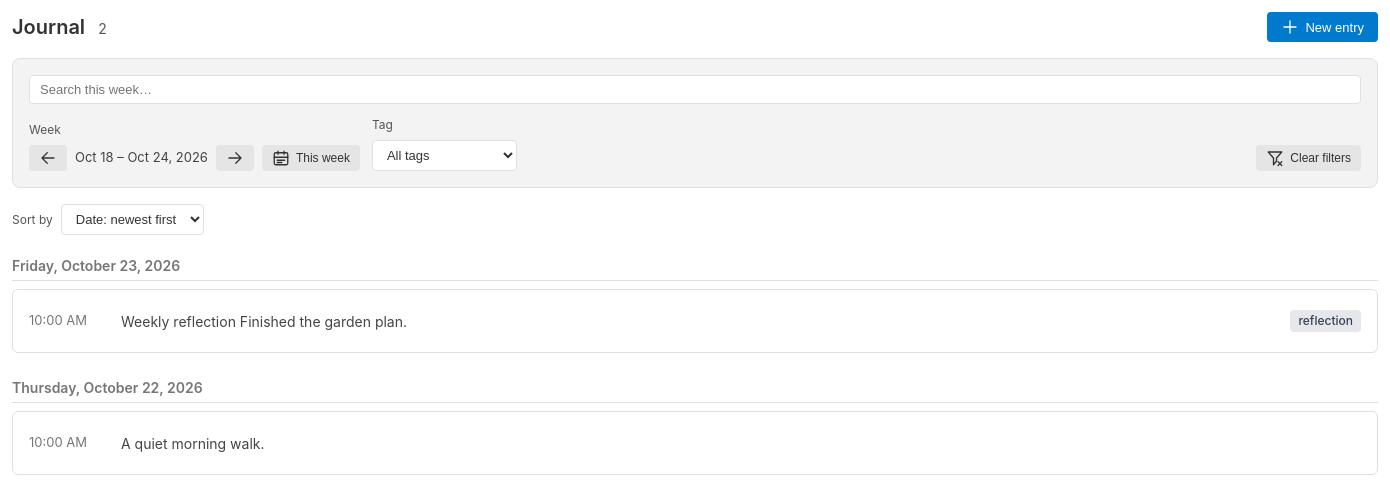
Test: requests the selected week's timezone boundaries and returns to this week
This screenshot has width=1390, height=492.
Click the button named "Previous week" at point(48, 158), box [29,145,67,171]
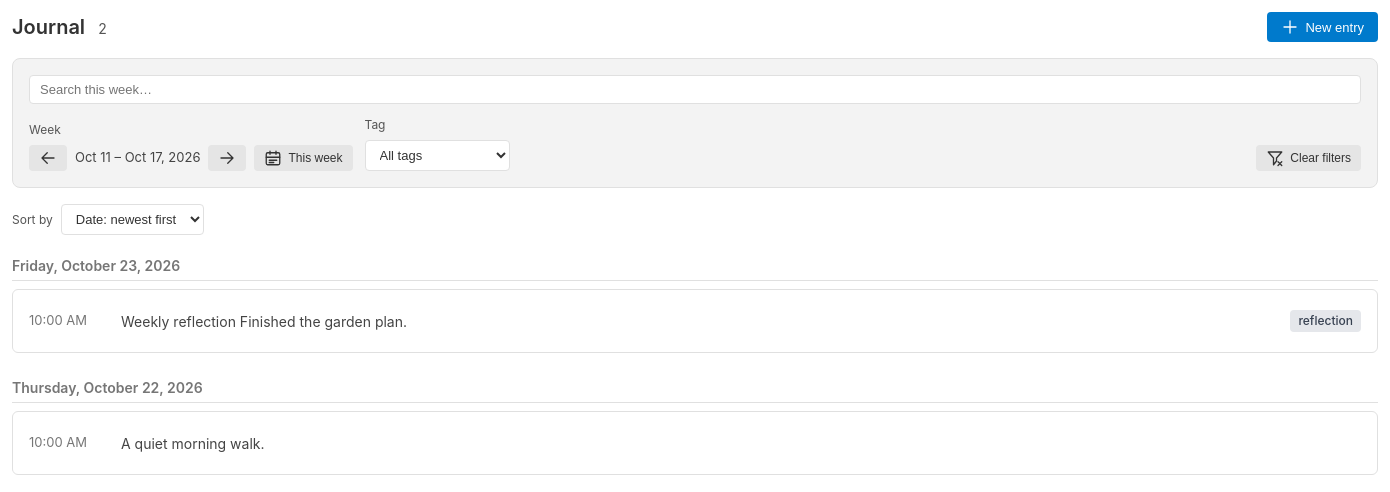
Click the button "This week" at point(304, 158), box [254,145,352,171]
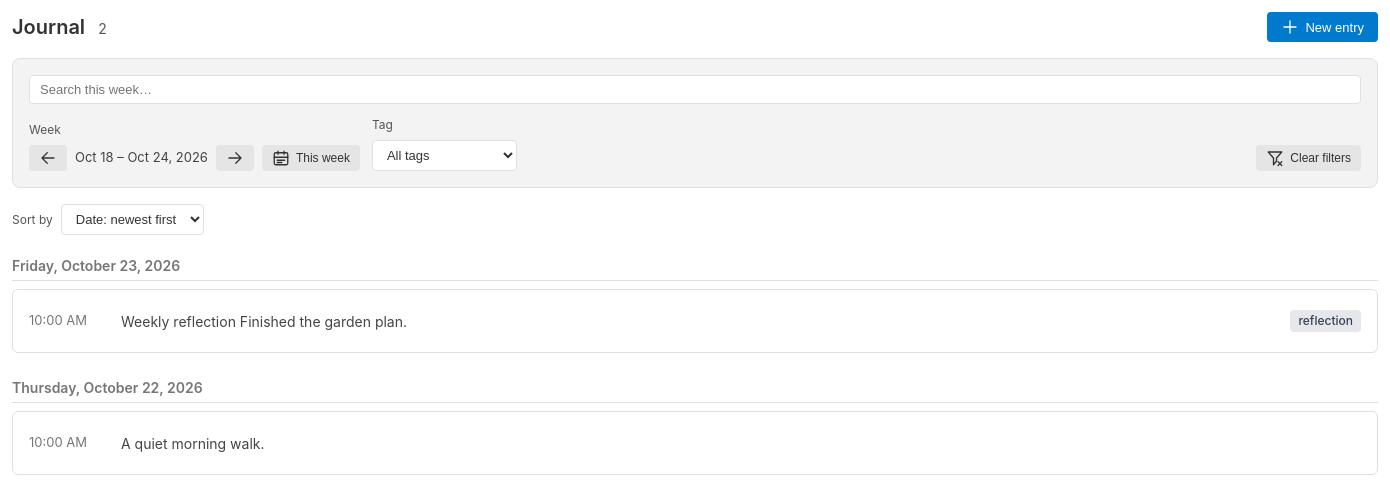
Check: the button named "Next week" is disabled, box [216,145,254,171]
